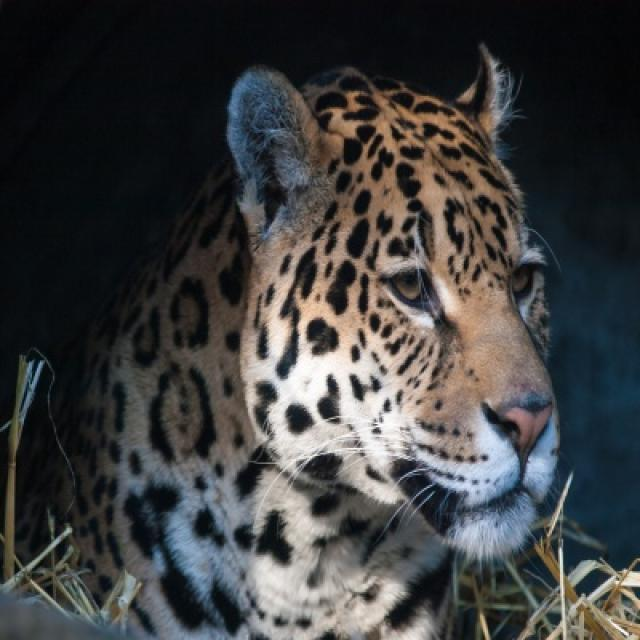Jaguar: (11, 43, 562, 638)
